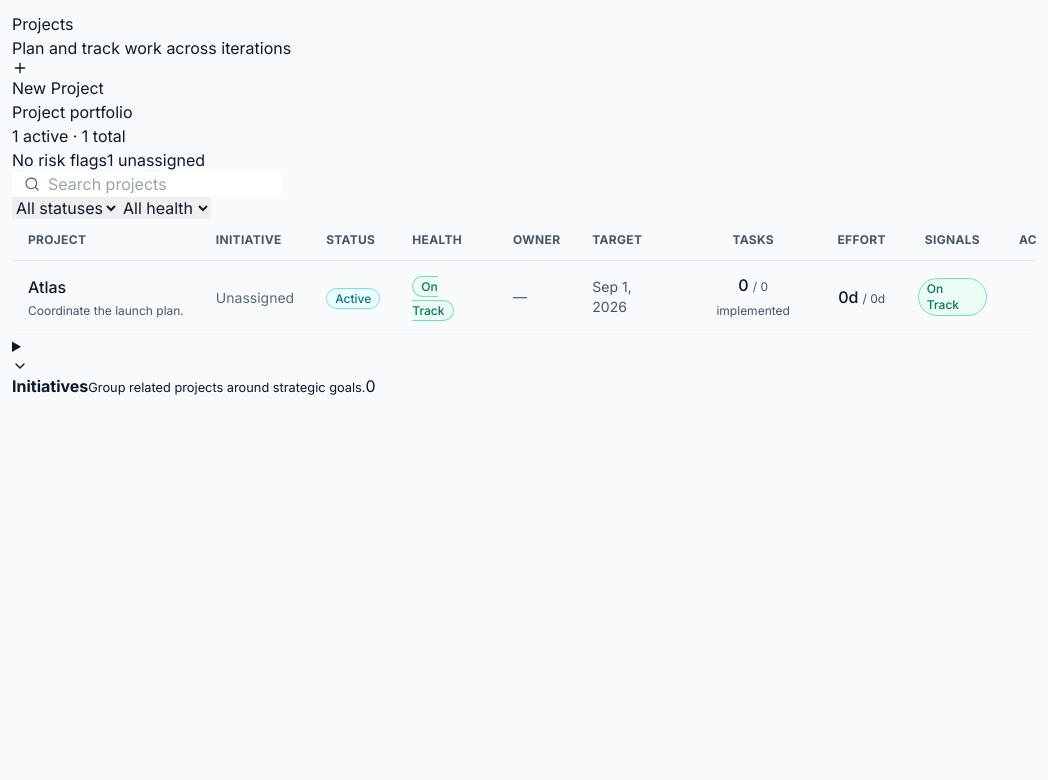
Test: ProjectsPage › keeps the project table primary and initiative management collapsed
This screenshot has width=1048, height=780.
expect the number of buttons "New Project" is 1: met, box [12, 60, 104, 100]
expect the heading "Project portfolio" is shown: met, box [12, 102, 132, 122]
Step 1. Click the heading "Initiatives" → click(194, 377), box [12, 358, 376, 396]
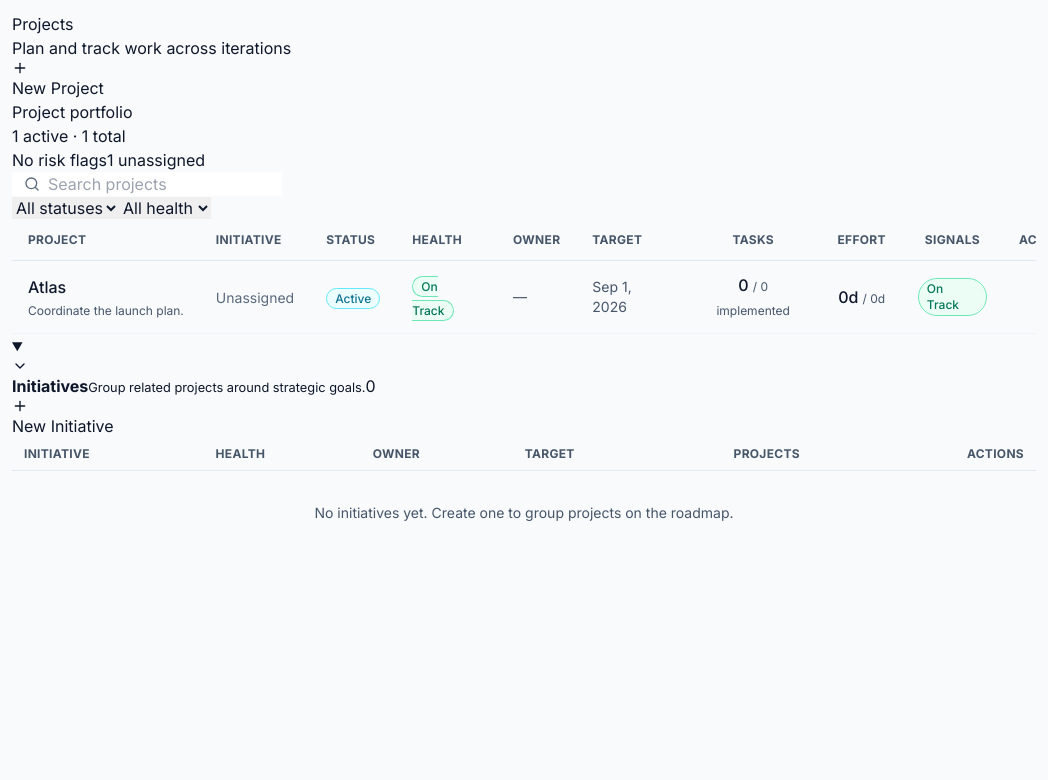
expect the button "New Initiative" is shown: met, box [12, 398, 114, 438]
